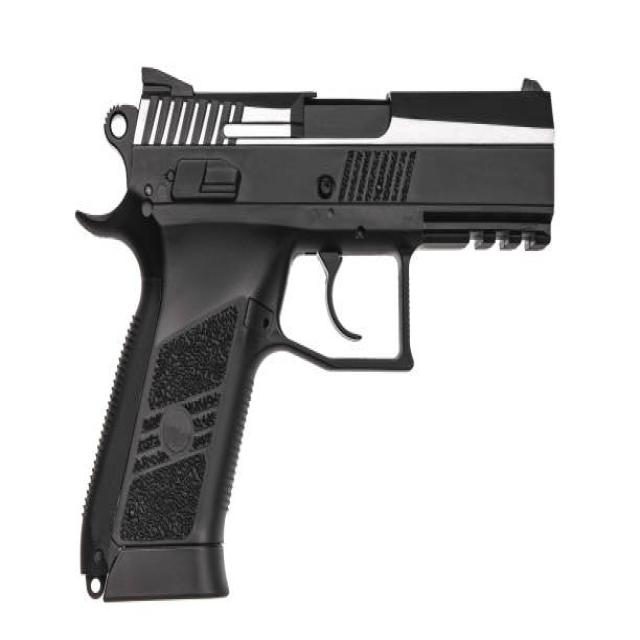pistol: (73, 67, 564, 612)
